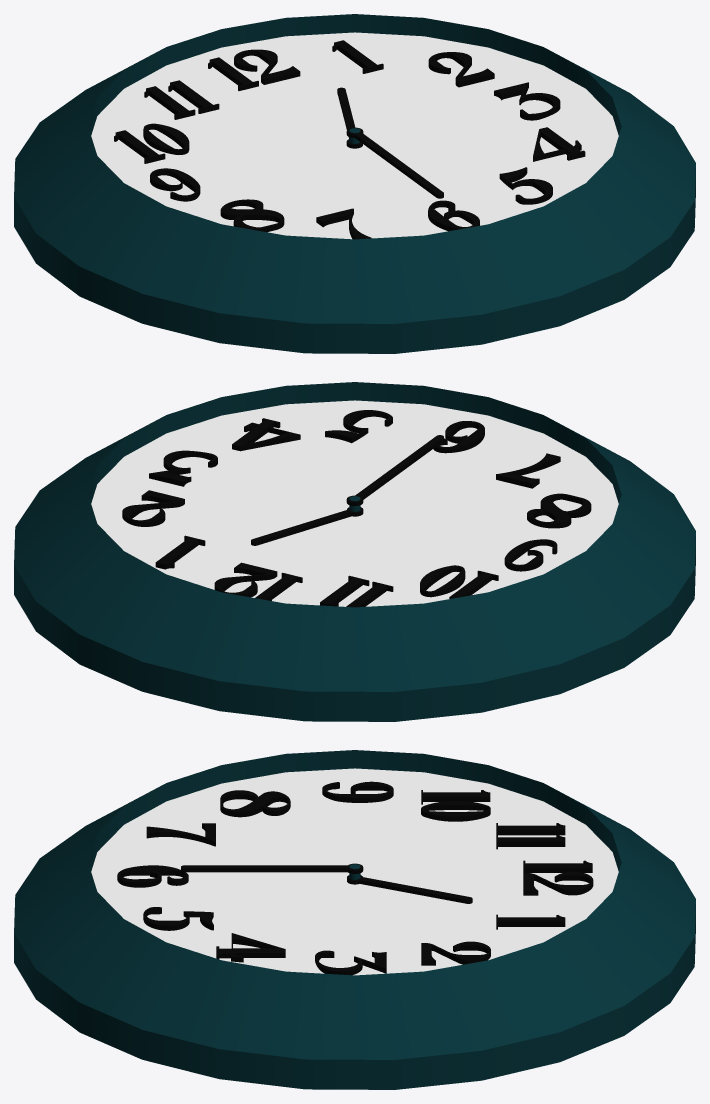
Rendered from clock.dae.
The picture shows the model from 3 angles, top to bottom: view 1: azimuth 30°, elevation 25°; view 2: azimuth 150°, elevation 25°; view 3: azimuth 270°, elevation 25°; orthographic projection.
Parts seen in each view (by area): view 1: SketchUp (×18); view 2: SketchUp (×18); view 3: SketchUp (×19).
Boxes of the visible parts, x1,y1,x2,y2 form: SketchUp (×18): (14, 14, 695, 353); SketchUp (×18): (14, 382, 695, 721); SketchUp (×19): (14, 750, 695, 1089).
Size of the model in its own units: 43.83 by 43.83 by 6.13.
